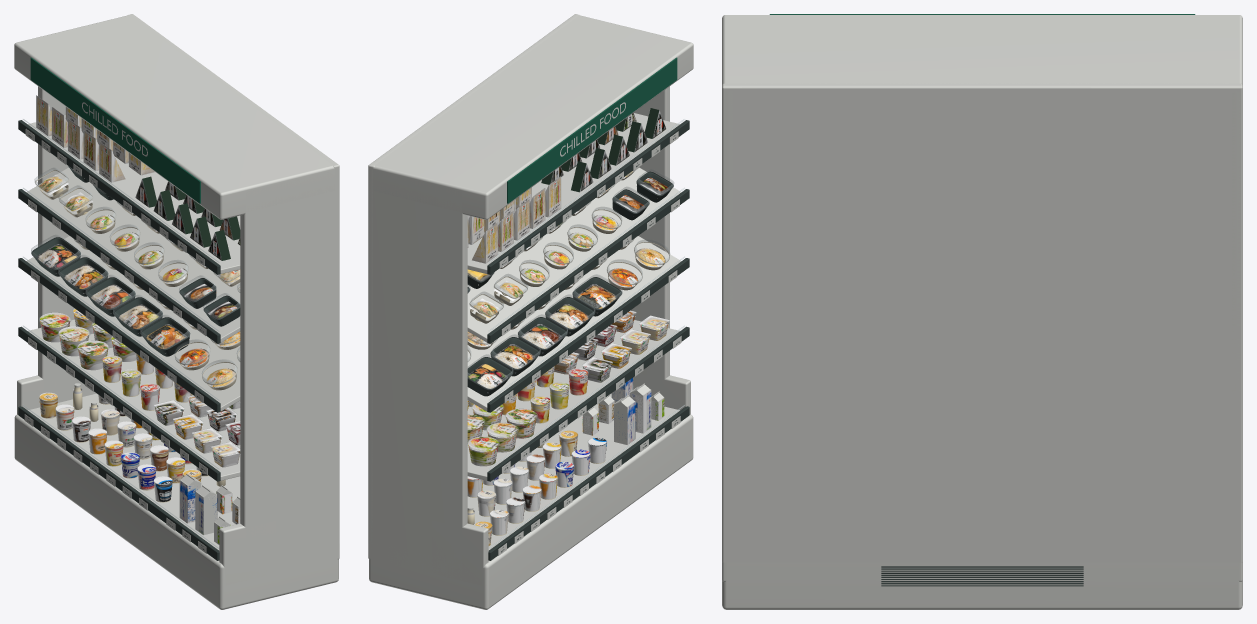
File: chilled-v18.glb
The picture shows the model from 3 angles, left to right: view 1: azimuth 30°, elevation 25°; view 2: azimuth 150°, elevation 25°; view 3: azimuth 270°, elevation 25°; orthographic projection. The views are drawn at different scales.
Parts seen in each view (by area): view 1: CHILL_V18_end_panel.001, CHILL_V18_header, CHILL_V18_base, CHILL_V18_shelf_2, CHILL_V18_shelf_3, CHILL_V18_green_sign, CHILL_V18_shelf_5, CHILL_V18_end_panel, CHILL_V18_shelf_4, CHILL_V18_base_cheek.001, CHILL_V18_shelf_1, CHILL_V18_back (+19 smaller); view 2: CHILL_V18_end_panel, CHILL_V18_header, CHILL_V18_base, CHILL_V18_shelf_2, CHILL_V18_shelf_3, CHILL_V18_green_sign, CHILL_V18_shelf_5, CHILL_V18_end_panel.001, CHILL_V18_shelf_4, CHILL_V18_back, CHILL_V18_base_cheek, CHILL_V18_shelf_1 (+19 smaller); view 3: CHILL_V18_back, CHILL_V18_header, CHILL_V18_base, CHILL_V18_end_panel.001, CHILL_V18_end_panel.
Boxes of the visible parts, x1=… form: CHILL_V18_end_panel.001: x1=240, y1=169, x2=339, y2=580; CHILL_V18_header: x1=14, y1=15, x2=335, y2=219; CHILL_V18_base: x1=14, y1=414, x2=338, y2=609; CHILL_V18_shelf_2: x1=26, y1=167, x2=240, y2=342; CHILL_V18_shelf_3: x1=26, y1=236, x2=240, y2=411; CHILL_V18_green_sign: x1=30, y1=57, x2=200, y2=203; CHILL_V18_shelf_5: x1=28, y1=393, x2=240, y2=550; CHILL_V18_end_panel: x1=38, y1=86, x2=96, y2=402; CHILL_V18_shelf_4: x1=28, y1=319, x2=240, y2=480; CHILL_V18_base_cheek.001: x1=219, y1=520, x2=275, y2=585; CHILL_V18_shelf_1: x1=28, y1=115, x2=240, y2=274; CHILL_V18_back: x1=127, y1=14, x2=339, y2=543; CHILL_V18_end_panel: x1=368, y1=170, x2=467, y2=580; CHILL_V18_header: x1=373, y1=15, x2=693, y2=219; CHILL_V18_base: x1=369, y1=414, x2=693, y2=609; CHILL_V18_shelf_2: x1=467, y1=167, x2=681, y2=342; CHILL_V18_shelf_3: x1=467, y1=236, x2=681, y2=411; CHILL_V18_green_sign: x1=507, y1=57, x2=677, y2=203; CHILL_V18_shelf_5: x1=467, y1=393, x2=679, y2=550; CHILL_V18_end_panel.001: x1=611, y1=86, x2=669, y2=396; CHILL_V18_shelf_4: x1=467, y1=320, x2=679, y2=480; CHILL_V18_back: x1=368, y1=14, x2=580, y2=543; CHILL_V18_base_cheek: x1=432, y1=520, x2=488, y2=585; CHILL_V18_shelf_1: x1=467, y1=113, x2=679, y2=274; CHILL_V18_back: x1=722, y1=83, x2=1242, y2=562; CHILL_V18_header: x1=722, y1=15, x2=1242, y2=84; CHILL_V18_base: x1=722, y1=562, x2=1242, y2=609; CHILL_V18_end_panel.001: x1=722, y1=91, x2=732, y2=581; CHILL_V18_end_panel: x1=1232, y1=92, x2=1242, y2=581.
Bounding box in the file's own units: 0.6161 × 2 × 1.8.
Materials: 21 (5 with a texture image).
